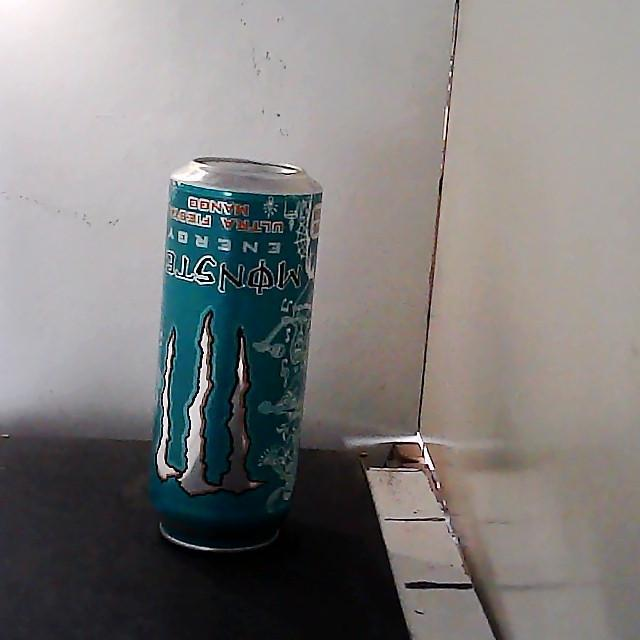metal: (150, 157, 322, 550)
